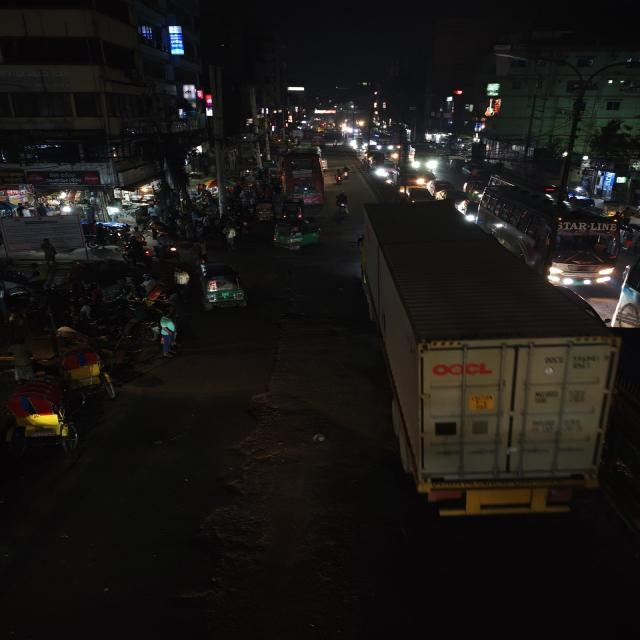bus: (482, 180, 625, 286), (281, 148, 327, 205)
cng: (196, 260, 251, 314), (270, 217, 322, 251), (280, 198, 306, 220), (461, 178, 485, 200)
motorcycle: (122, 238, 156, 266), (157, 237, 182, 261), (334, 167, 349, 185), (332, 170, 344, 186)
pedestrian: (4, 337, 39, 379), (154, 314, 181, 356), (223, 225, 239, 249)
rickshaw: (1, 378, 95, 454), (56, 345, 122, 399), (332, 190, 350, 218), (254, 200, 275, 222)
truck: (353, 201, 621, 518)
